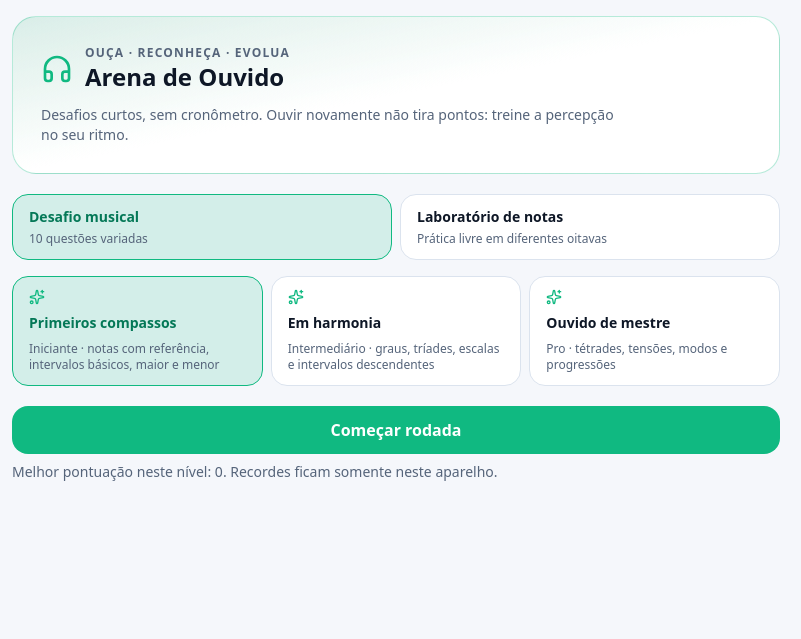
Test: study tools › opens the current ear-training arena and its free note practice
Expected: the heading "Arena de Ouvido" is shown, x1=85 y1=61 x2=290 y2=93
Step 1. Click the radio button labelled "Laboratório de notas Prática livre em diferentes oitavas" → [590, 227], box x1=400 y1=194 x2=780 y2=260
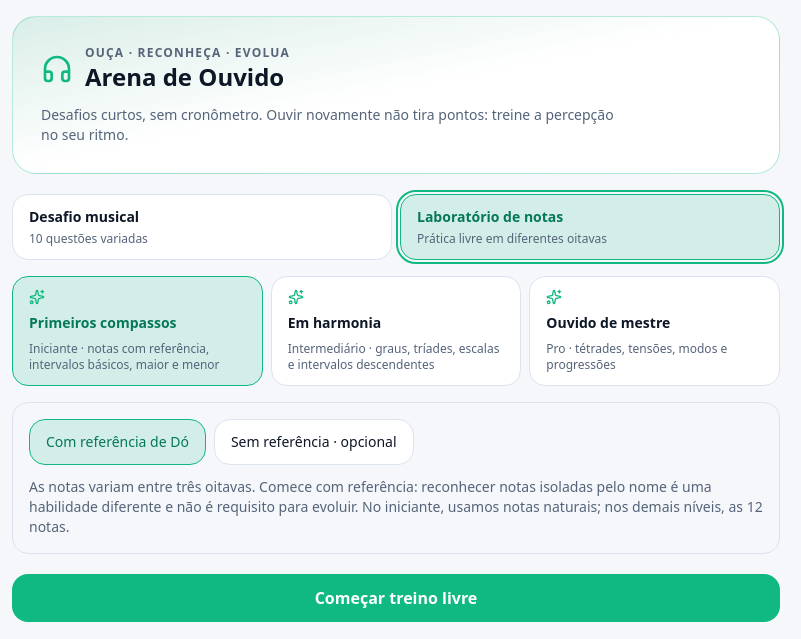
Result: the element named "Referência de notas" is shown at x1=29 y1=419 x2=414 y2=465
Result: the button "Começar treino livre" is shown at x1=12 y1=574 x2=780 y2=622
